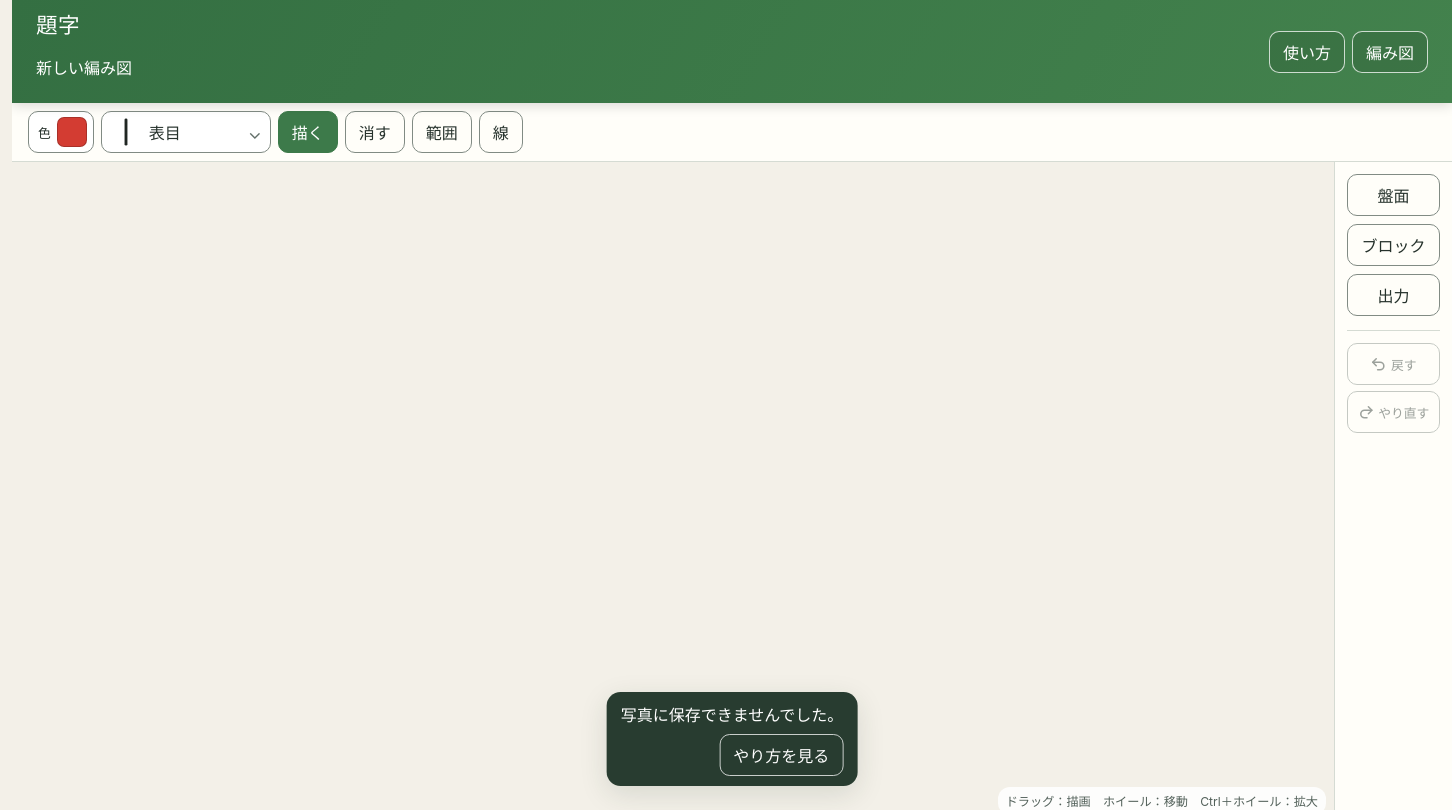
Test case: EditorView › adds a button to a toast only when the notification carries an action
Expected: the message with class "toast" reads "写真に保存できませんでした。 やり方を見る", [607,692,857,786]
Click the button with class "toast-action" at (781, 755), box [719,734,843,776]
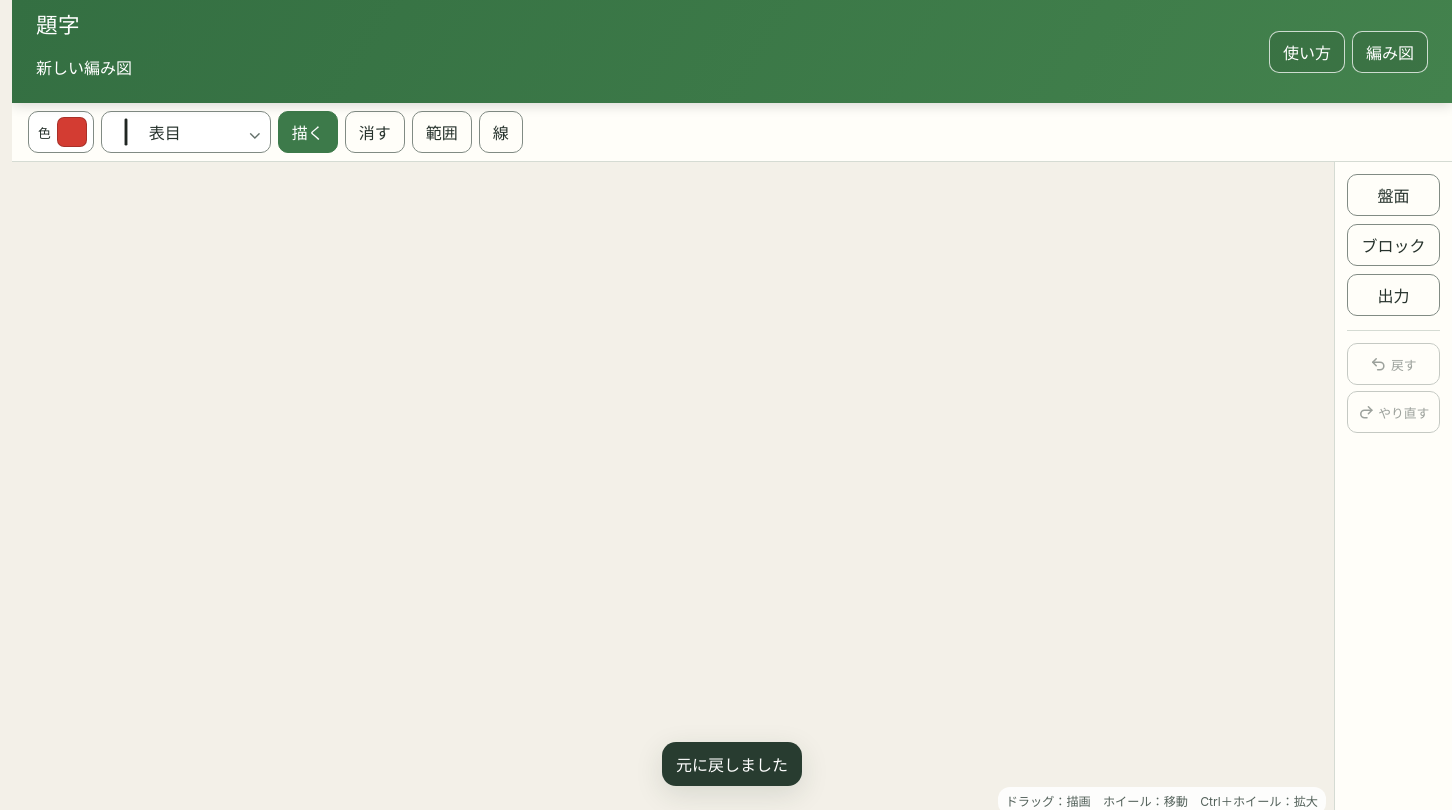
Expected: the message with class "toast" reads "元に戻しました", [676,755,788,775]
Expected: the button with class "toast-action" is gone
